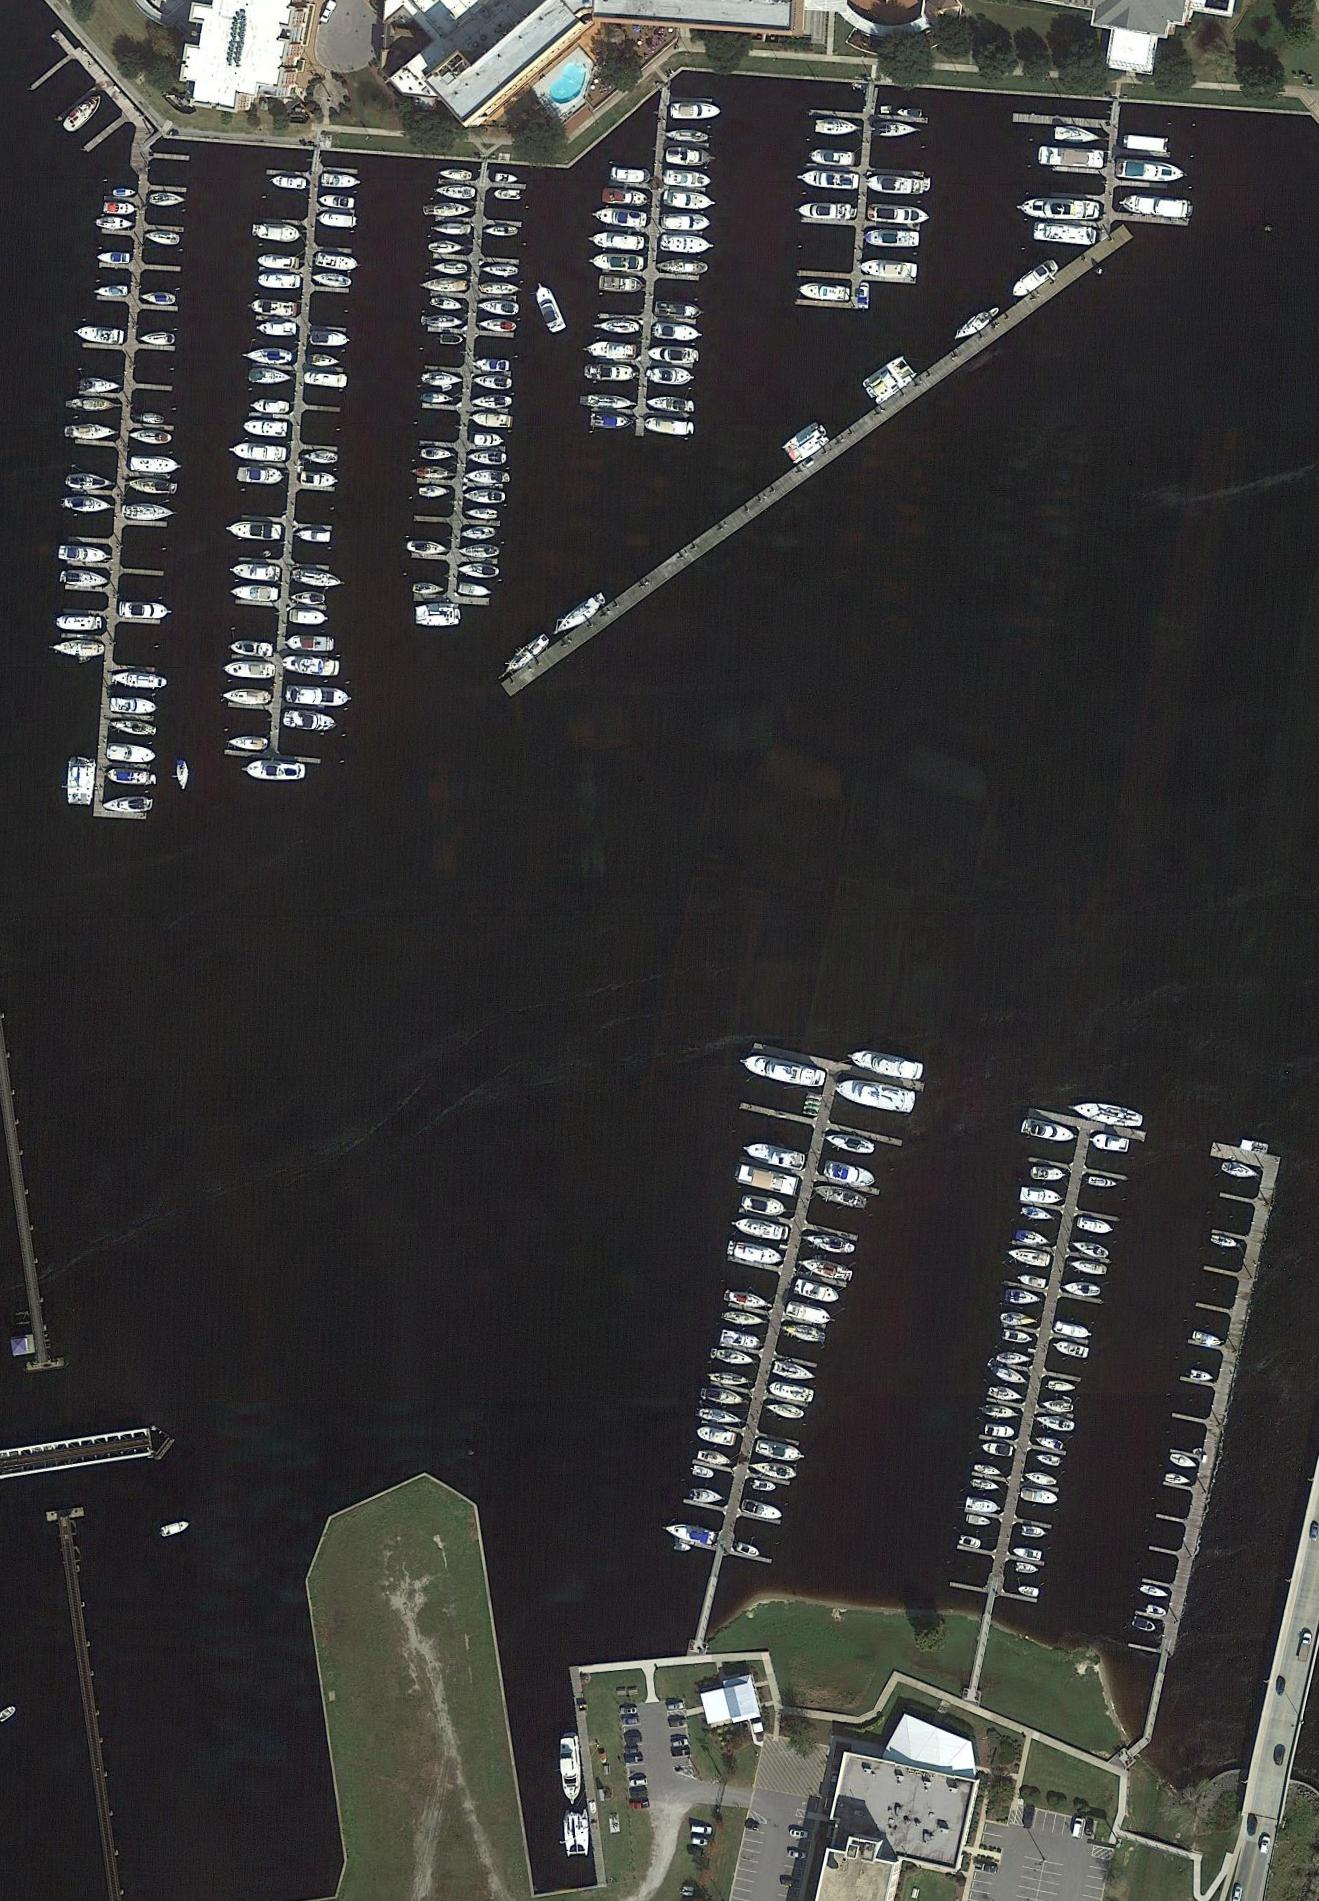harbor: (498, 222, 1138, 702), (617, 1042, 927, 1644), (909, 1107, 1149, 1668), (29, 134, 198, 823), (1097, 1141, 1283, 1725), (224, 146, 358, 764), (402, 160, 529, 610), (576, 82, 712, 438), (998, 95, 1198, 257), (796, 82, 932, 318)
ship: (740, 1052, 826, 1091), (835, 1075, 917, 1114), (861, 352, 917, 406), (847, 1046, 926, 1082), (1066, 1096, 1146, 1133), (550, 591, 610, 638), (500, 631, 553, 679), (1017, 194, 1099, 222), (1008, 257, 1060, 300), (737, 1163, 800, 1198), (782, 422, 831, 467), (743, 1140, 808, 1172), (532, 280, 568, 335), (61, 92, 105, 134), (1115, 157, 1186, 183), (797, 1252, 855, 1284), (1123, 194, 1192, 220), (727, 1238, 784, 1268), (822, 1159, 878, 1189), (1020, 1115, 1076, 1146), (1039, 146, 1107, 170), (731, 1215, 792, 1242), (813, 1182, 868, 1212), (1034, 221, 1098, 247), (559, 1731, 582, 1801), (660, 1518, 717, 1547), (951, 308, 994, 345), (285, 683, 350, 708), (282, 706, 340, 734), (792, 1276, 844, 1306), (240, 758, 306, 781), (802, 1229, 857, 1257), (282, 653, 342, 677), (797, 168, 860, 191), (756, 1436, 808, 1463), (865, 204, 930, 225), (563, 1807, 591, 1858), (66, 757, 94, 807), (591, 205, 647, 230), (769, 1378, 818, 1406), (230, 441, 287, 464), (113, 667, 170, 690), (589, 230, 647, 253), (867, 173, 925, 196), (225, 519, 282, 542), (861, 256, 917, 279), (826, 1130, 875, 1156), (289, 566, 344, 589), (659, 233, 714, 256), (740, 1192, 787, 1218), (784, 1300, 834, 1325), (722, 1287, 771, 1312), (644, 415, 696, 438), (62, 493, 113, 516), (782, 1320, 826, 1346), (222, 659, 276, 680), (56, 545, 110, 566), (584, 361, 637, 383), (591, 251, 647, 272), (771, 1359, 818, 1384), (105, 766, 157, 787), (230, 560, 282, 582), (649, 344, 701, 365), (652, 321, 704, 342), (663, 191, 715, 212), (51, 638, 105, 659), (601, 186, 649, 209), (695, 1423, 740, 1447), (709, 1343, 754, 1368), (740, 1498, 784, 1523), (75, 324, 126, 345), (130, 454, 181, 475), (228, 582, 279, 604), (799, 282, 852, 302), (415, 602, 461, 625), (748, 1459, 797, 1481), (110, 716, 159, 738), (124, 503, 173, 524), (59, 568, 108, 589), (1008, 1245, 1052, 1270), (864, 228, 920, 247), (585, 339, 637, 360), (653, 300, 705, 321), (701, 1384, 745, 1407), (243, 417, 287, 441), (253, 222, 300, 244), (237, 464, 285, 485), (1121, 133, 1169, 155), (666, 146, 714, 168), (107, 742, 157, 763), (53, 612, 104, 633), (649, 365, 695, 387), (1089, 1133, 1133, 1156), (313, 251, 363, 272), (243, 345, 292, 365), (65, 422, 117, 441), (104, 794, 156, 813), (126, 477, 178, 495), (118, 601, 170, 620), (763, 1400, 808, 1421), (719, 1328, 761, 1351), (719, 1307, 767, 1328), (649, 394, 696, 415), (1072, 1237, 1111, 1261), (797, 202, 852, 220), (248, 298, 299, 316), (222, 688, 273, 706), (662, 212, 712, 231), (587, 393, 637, 412), (303, 368, 350, 389), (1069, 1255, 1110, 1278), (815, 116, 861, 136), (810, 147, 857, 168), (64, 472, 113, 491), (230, 638, 274, 659), (1019, 1186, 1063, 1206), (68, 394, 120, 412), (1037, 1411, 1076, 1434), (1219, 1159, 1258, 1182), (670, 103, 722, 120), (110, 695, 157, 714), (663, 169, 711, 188), (1055, 126, 1102, 144), (993, 1362, 1029, 1387), (1052, 1319, 1092, 1341), (1052, 1338, 1092, 1359), (696, 1406, 743, 1424), (287, 634, 337, 651), (312, 269, 354, 289), (470, 410, 514, 429), (600, 274, 644, 293), (987, 1382, 1023, 1406), (1014, 1226, 1050, 1250), (406, 537, 446, 558), (248, 367, 292, 386), (589, 412, 633, 430), (1076, 1215, 1114, 1237), (1020, 1486, 1059, 1507), (287, 607, 329, 625), (459, 560, 501, 579), (316, 211, 358, 230), (592, 318, 641, 334), (478, 316, 519, 335), (695, 1447, 732, 1468), (79, 376, 120, 394), (144, 228, 182, 248), (423, 202, 471, 218), (478, 299, 522, 316), (130, 428, 173, 445), (657, 260, 709, 274), (259, 251, 298, 270), (1063, 1280, 1102, 1299), (1003, 1287, 1042, 1306), (422, 312, 464, 329), (610, 166, 652, 183), (420, 277, 470, 292), (709, 1369, 750, 1387), (432, 220, 472, 237), (316, 192, 357, 209), (259, 273, 302, 289), (300, 448, 340, 465), (415, 464, 454, 481), (251, 397, 290, 415), (95, 215, 134, 233), (1021, 1203, 1055, 1224), (228, 735, 270, 751), (300, 469, 338, 487), (691, 1486, 725, 1505), (966, 1495, 1001, 1514), (979, 1439, 1014, 1458), (1000, 1310, 1037, 1328), (467, 468, 511, 482), (422, 370, 462, 386), (472, 393, 513, 409), (465, 487, 506, 503), (436, 183, 477, 199), (257, 321, 298, 337), (1034, 1433, 1066, 1453), (878, 121, 919, 137), (461, 524, 497, 542), (457, 582, 493, 599), (429, 293, 462, 312), (157, 1520, 191, 1538), (1024, 1469, 1058, 1488), (1190, 1329, 1224, 1348), (475, 373, 514, 389), (139, 331, 178, 347), (459, 543, 501, 558), (428, 238, 462, 256), (311, 331, 348, 347), (321, 173, 361, 188), (1169, 1450, 1198, 1471), (1011, 1544, 1045, 1562), (982, 1403, 1019, 1419), (468, 451, 507, 465), (147, 192, 186, 207), (480, 282, 522, 295), (667, 129, 709, 142), (481, 263, 519, 277), (295, 529, 332, 543), (269, 175, 306, 189), (477, 357, 510, 373), (306, 352, 340, 368), (103, 199, 136, 215), (1030, 1166, 1063, 1182), (1138, 1582, 1169, 1599), (985, 1421, 1016, 1439), (1240, 1138, 1270, 1156), (1017, 1273, 1047, 1290), (432, 260, 468, 274), (142, 290, 178, 305), (418, 482, 449, 498), (441, 166, 472, 182), (1001, 1328, 1033, 1343), (97, 250, 131, 264), (969, 1476, 1000, 1492), (997, 1351, 1030, 1365), (1036, 1450, 1063, 1468), (290, 592, 326, 605), (1131, 1615, 1156, 1634), (419, 446, 451, 461), (964, 1512, 993, 1528), (734, 1541, 760, 1559), (422, 391, 452, 406), (974, 1462, 1004, 1476), (1088, 1174, 1118, 1189), (1211, 1234, 1238, 1250), (95, 285, 129, 298), (1042, 1398, 1075, 1411), (474, 432, 503, 446), (484, 225, 520, 237), (858, 282, 873, 311), (753, 1478, 779, 1494), (691, 1463, 717, 1479), (412, 582, 444, 595), (1164, 1471, 1190, 1486), (176, 760, 189, 790), (958, 1534, 982, 1550), (1047, 1380, 1076, 1393), (467, 507, 498, 519), (1016, 1562, 1040, 1576), (1017, 1583, 1042, 1598), (496, 188, 522, 201), (1021, 1525, 1047, 1538), (1190, 1369, 1214, 1384), (1146, 1603, 1167, 1618), (140, 413, 165, 425), (496, 172, 519, 183), (899, 107, 925, 117), (441, 334, 462, 345), (113, 188, 136, 198), (675, 1541, 692, 1551)
